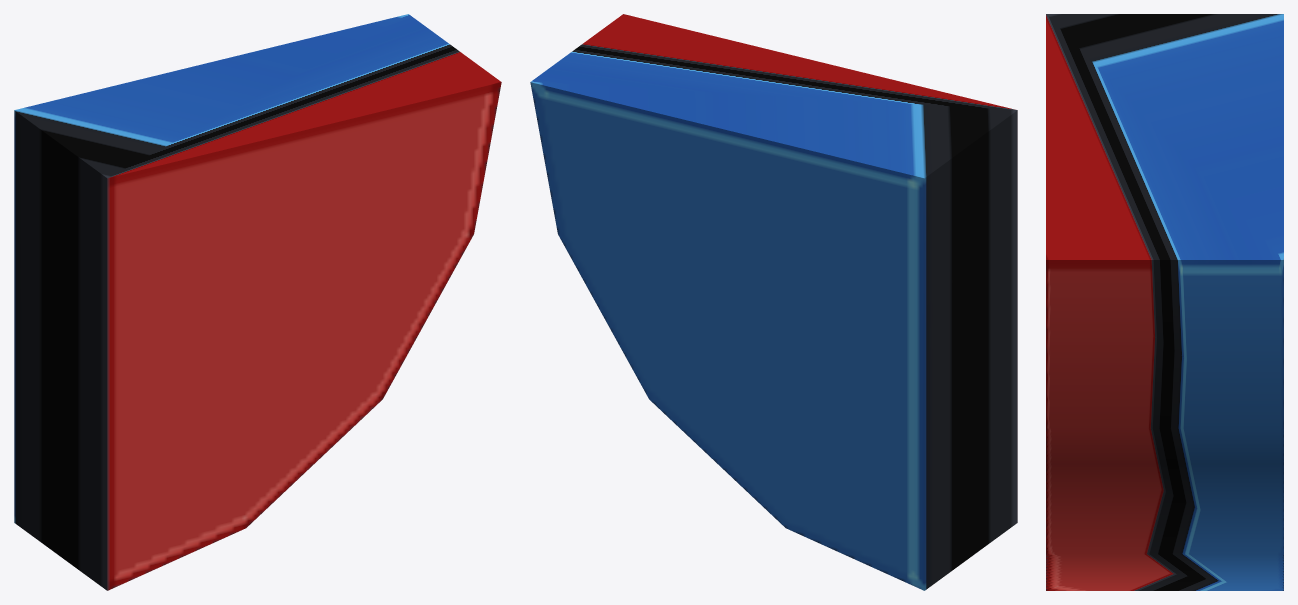
File: Fan00CornerCollider.fbx
The picture shows the model from 3 angles, left to right: view 1: azimuth 30°, elevation 25°; view 2: azimuth 150°, elevation 25°; view 3: azimuth 270°, elevation 25°; orthographic projection. The views are drawn at different scales.
Visible parts, largest first — view 1: Fan00Corner; view 2: Fan00Corner; view 3: Fan00Corner.
Boxes of the visible parts, box(x1,y1,x2,y2) form: Fan00Corner: box(14, 14, 501, 590); Fan00Corner: box(530, 14, 1017, 590); Fan00Corner: box(1046, 14, 1283, 590).
Size of the model in its own units: 978 by 978 by 400.
